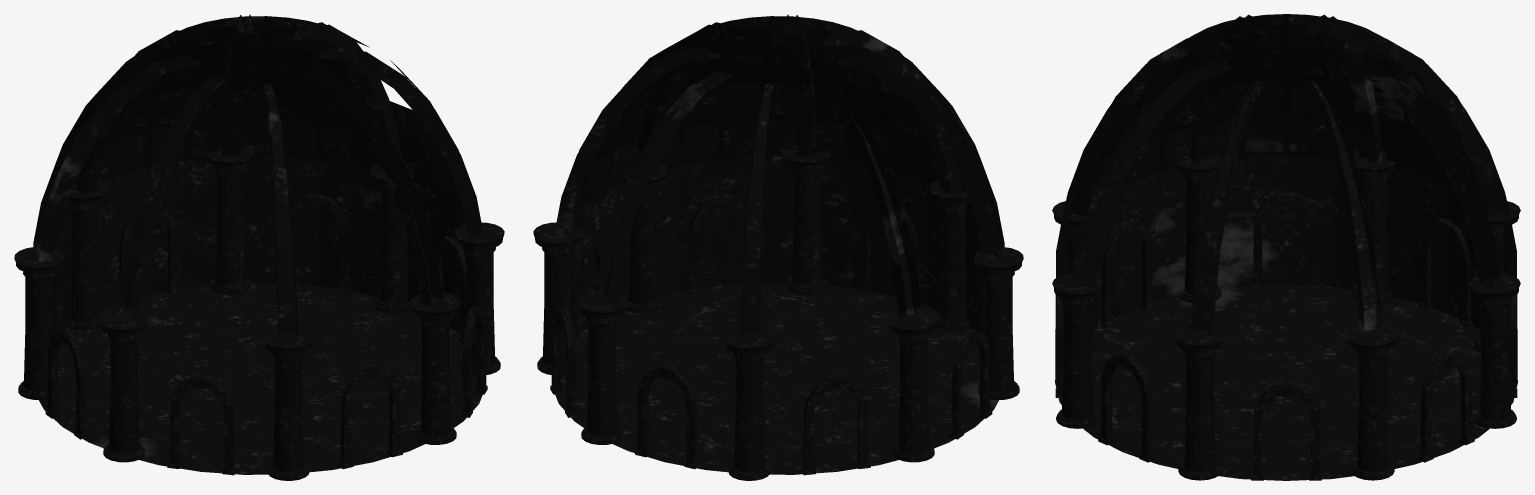
File: Room3.glb
3 views of the same model, side by side, from view 1: azimuth 30°, elevation 25°; view 2: azimuth 150°, elevation 25°; view 3: azimuth 270°, elevation 25° (orthographic).
Parts seen in each view (by area): view 1: Room.001; view 2: Room.001; view 3: Room.001.
Boxes of the visible parts, x1=… form: Room.001: x1=14, y1=14, x2=504, y2=480; Room.001: x1=533, y1=14, x2=1023, y2=480; Room.001: x1=1052, y1=14, x2=1520, y2=480.
Bounding box in the file's own units: 21.77 × 17 × 21.77.
Materials: 1 (1 with a texture image).
